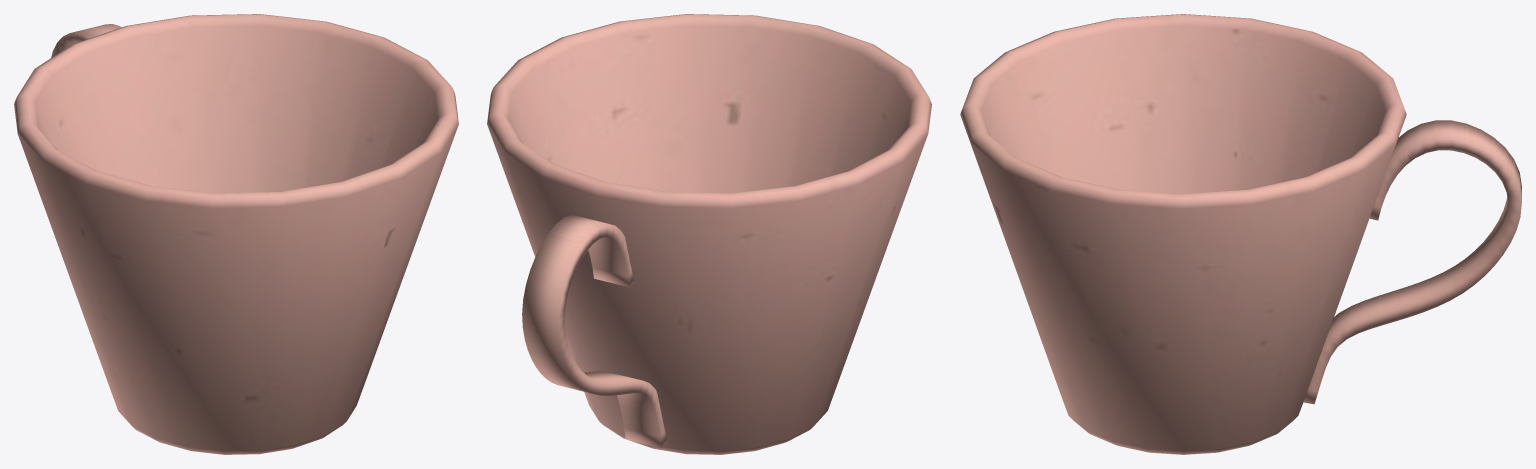
File: cup_c02.fbx
3 views of the same model, side by side, from view 1: azimuth 30°, elevation 25°; view 2: azimuth 150°, elevation 25°; view 3: azimuth 270°, elevation 25° (orthographic).
Parts seen in each view (by area): view 1: cup_c02; view 2: cup_c02; view 3: cup_c02.
Part boxes in pixels (x1=…): cup_c02: x1=14, y1=14, x2=458, y2=454; cup_c02: x1=487, y1=14, x2=931, y2=454; cup_c02: x1=960, y1=14, x2=1521, y2=454.
Size of the model in its own units: 9.89 by 7.42 by 12.44.
Materials: 1 (1 with a texture image).
